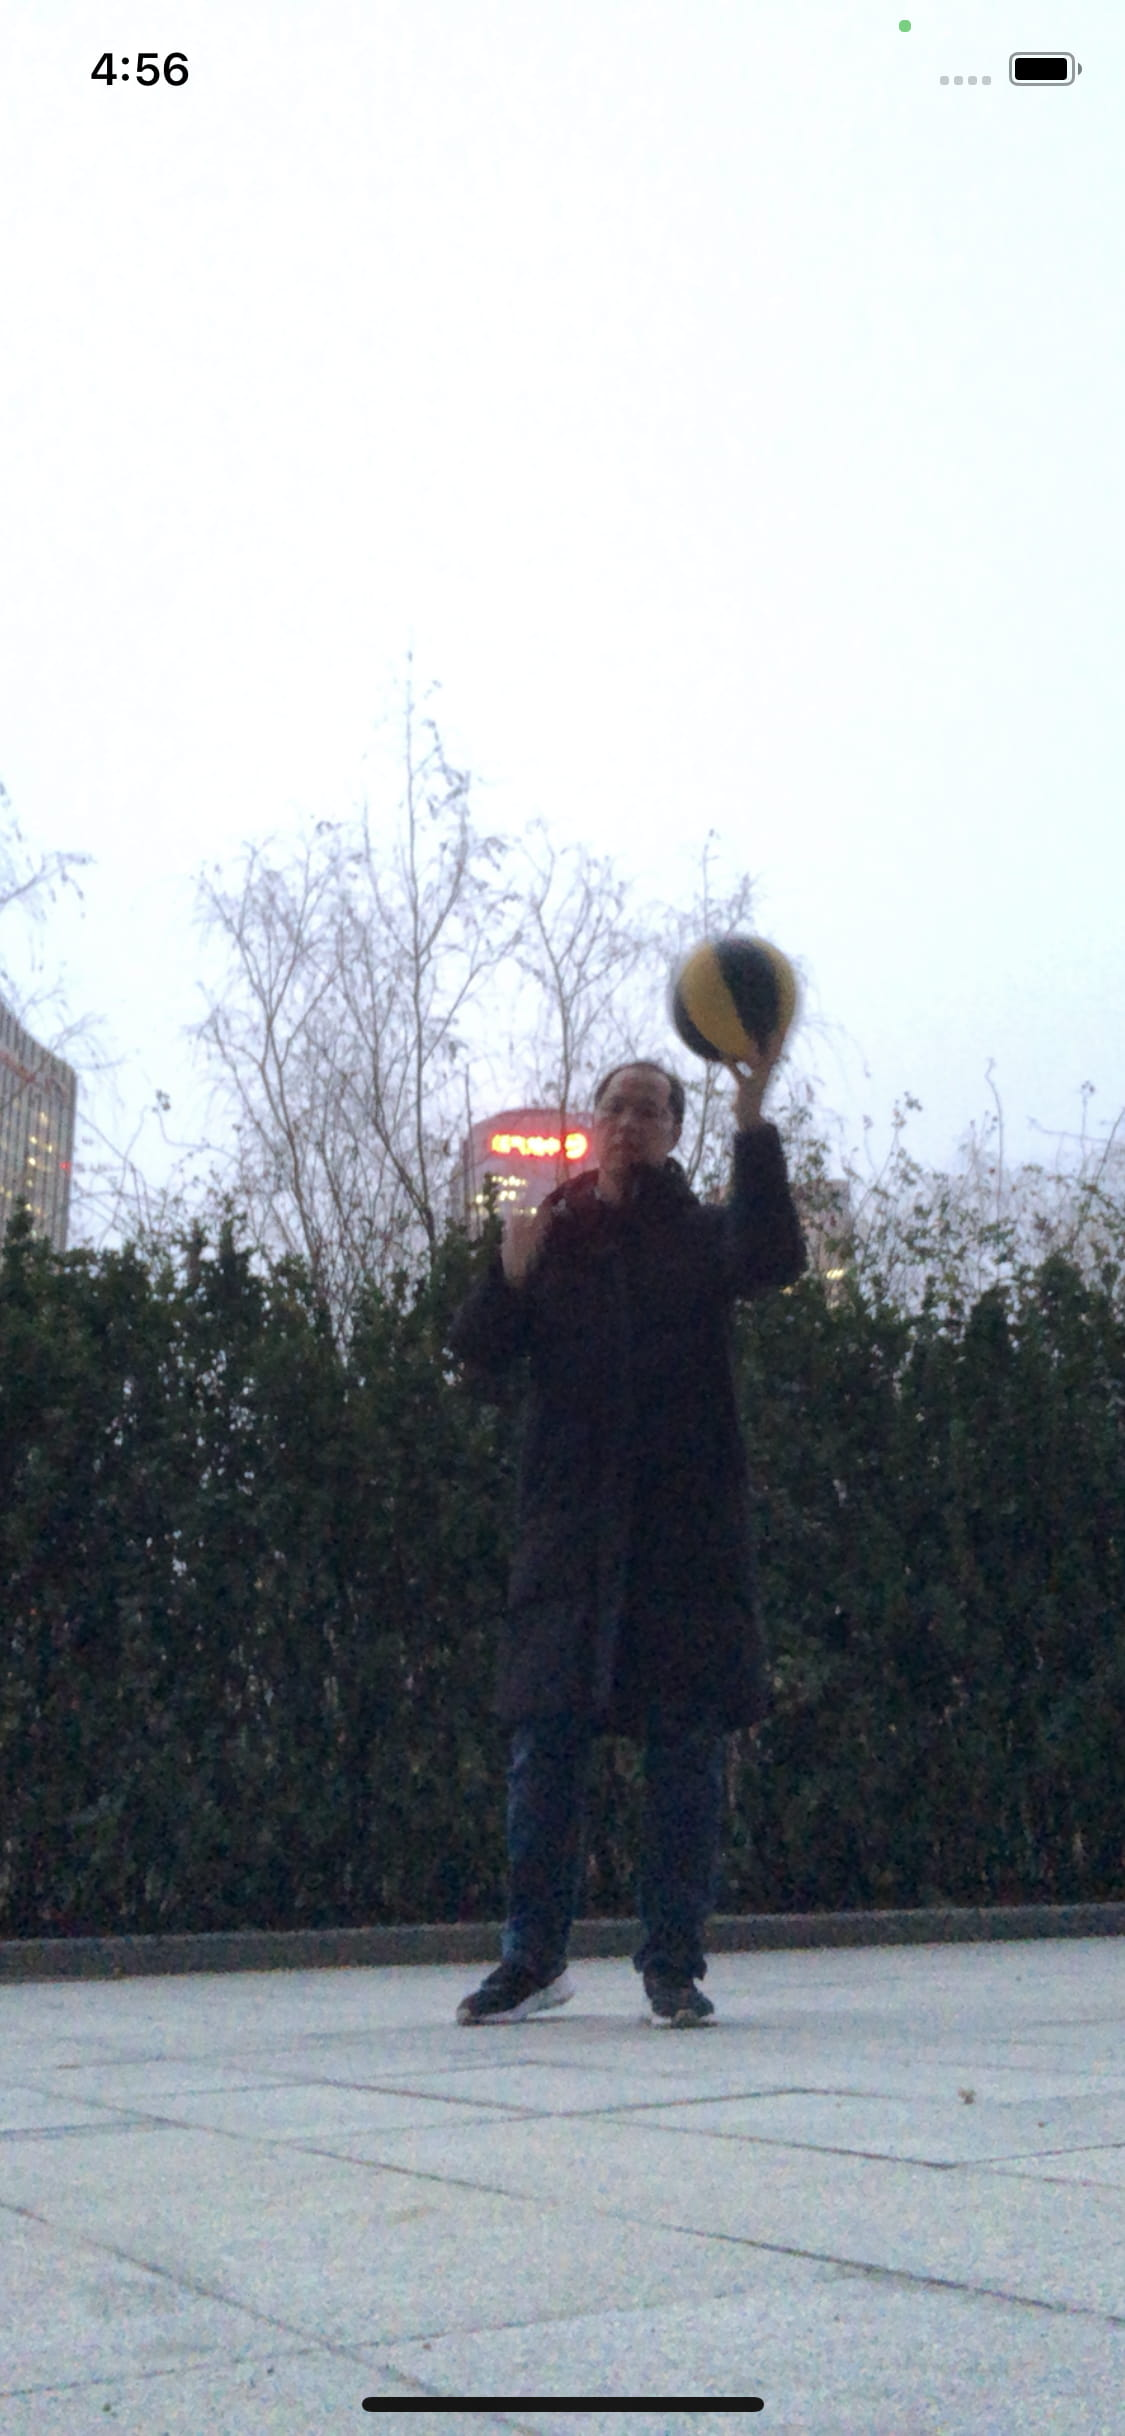ball: (671, 938, 803, 1067)
